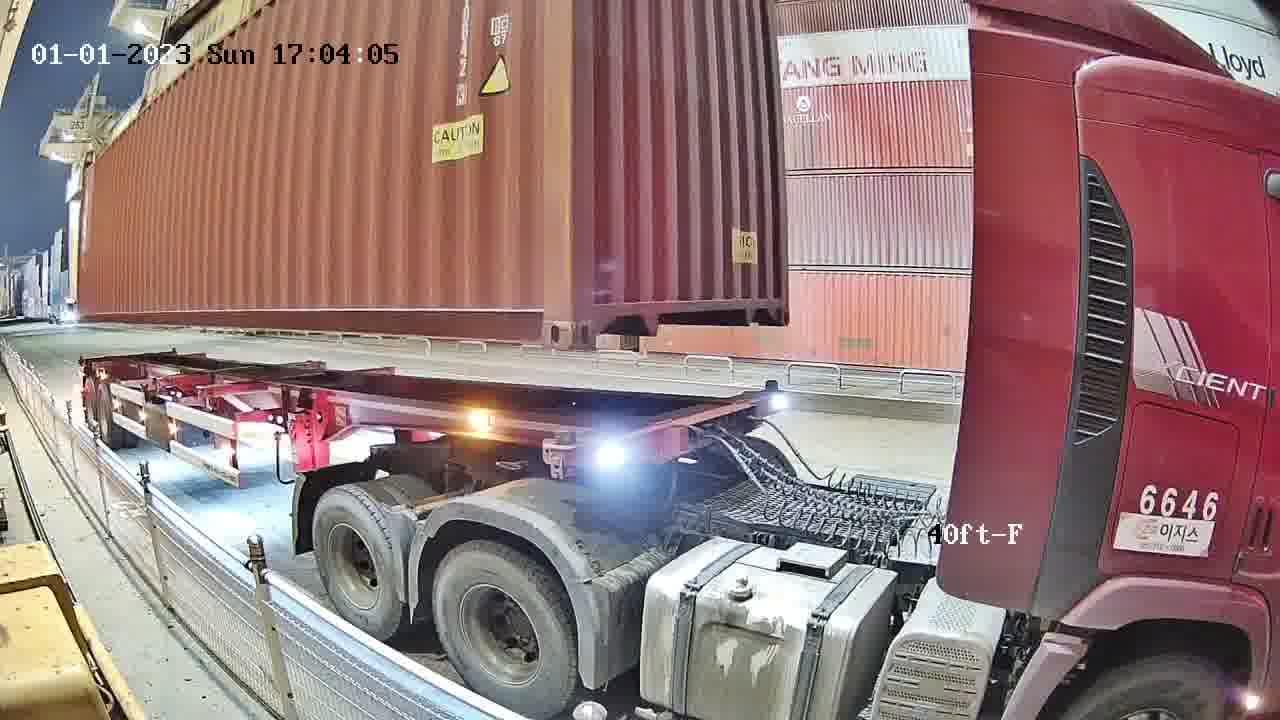Chassis: (548, 390, 784, 474)
Cone: (544, 428, 583, 482), (753, 379, 781, 415)
Hole_L: (570, 289, 622, 350)
Hole_R: (517, 286, 573, 349), (755, 278, 790, 325)
Tire: (433, 545, 575, 717), (310, 488, 405, 639)
